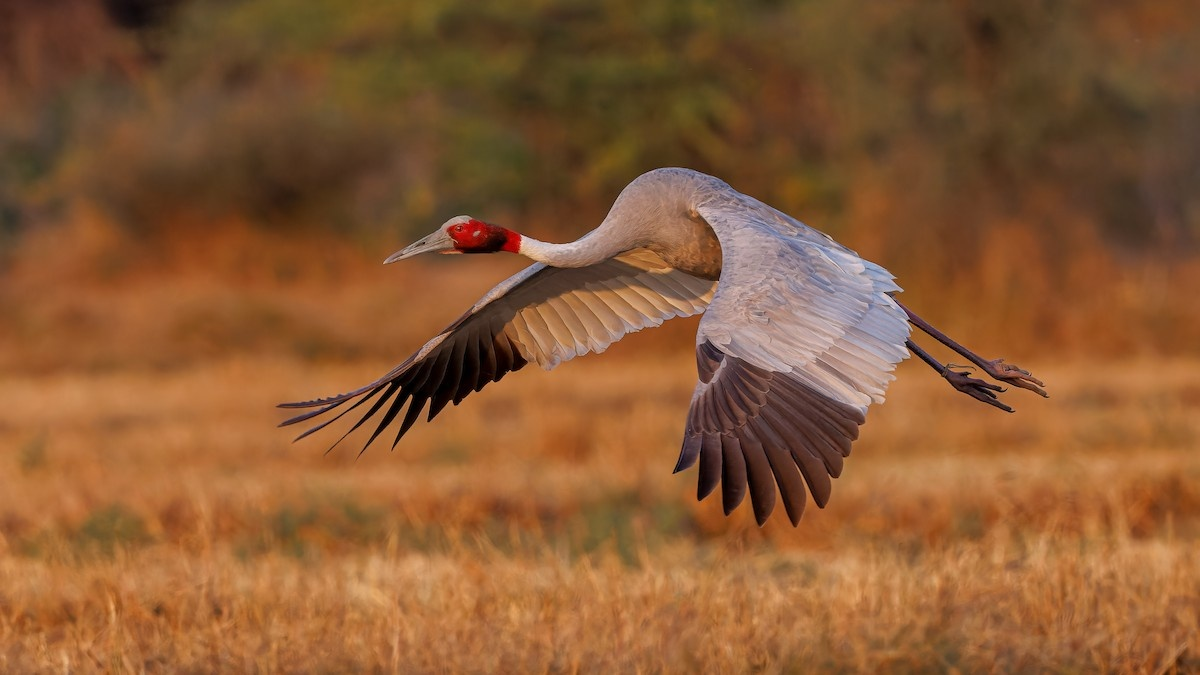crane: (268, 160, 1061, 526)
